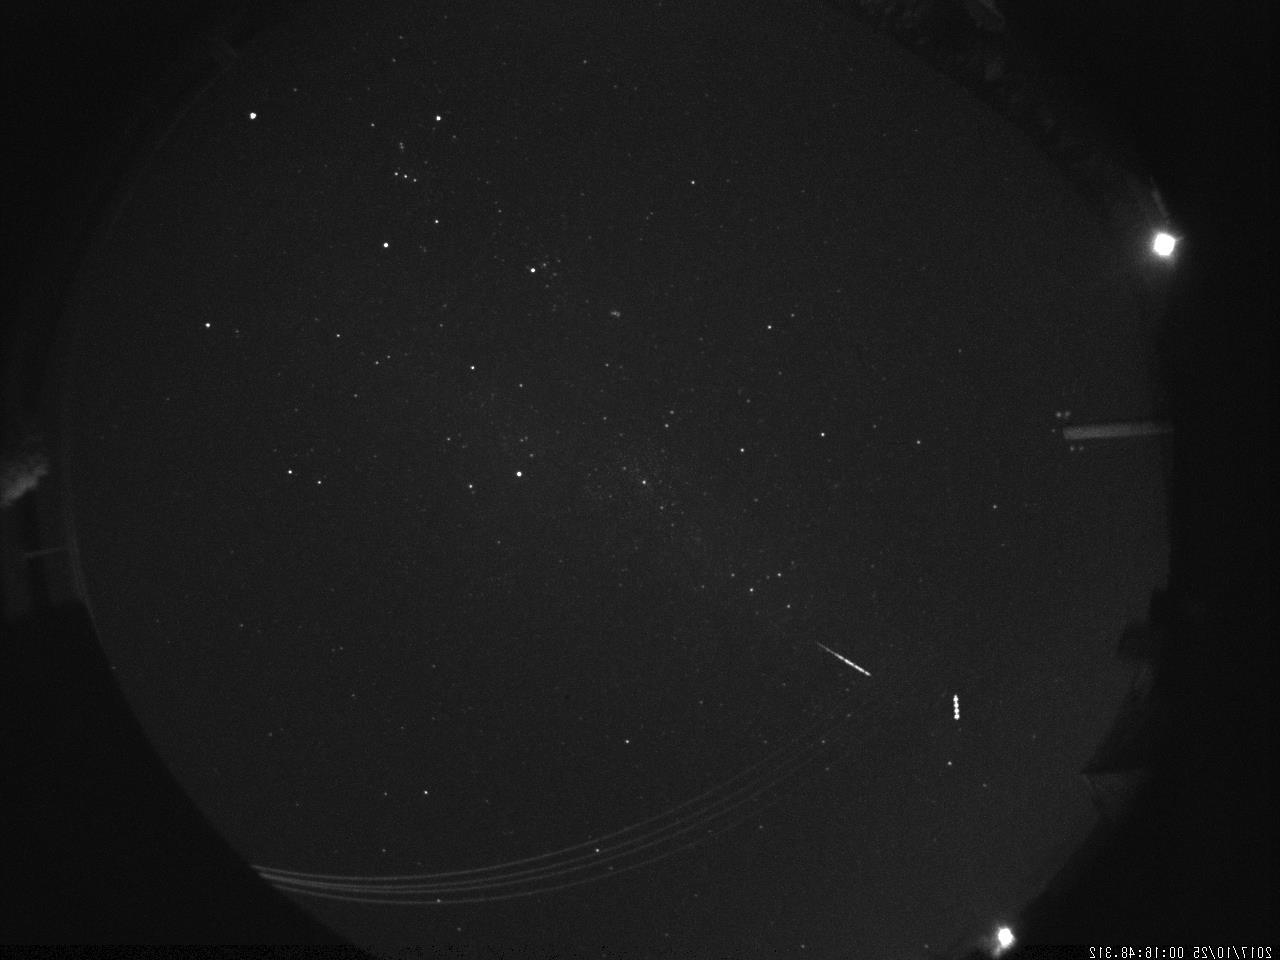meteor: (806, 625, 881, 687)
satelite: (943, 684, 973, 726)
